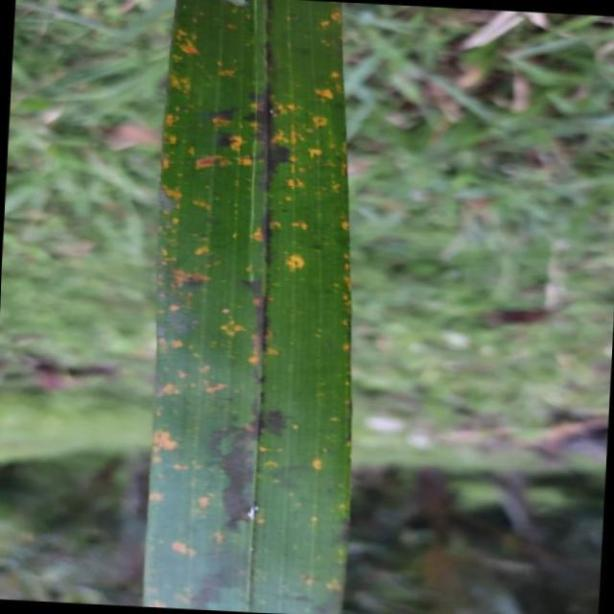Healthy: (147, 0, 347, 614)
